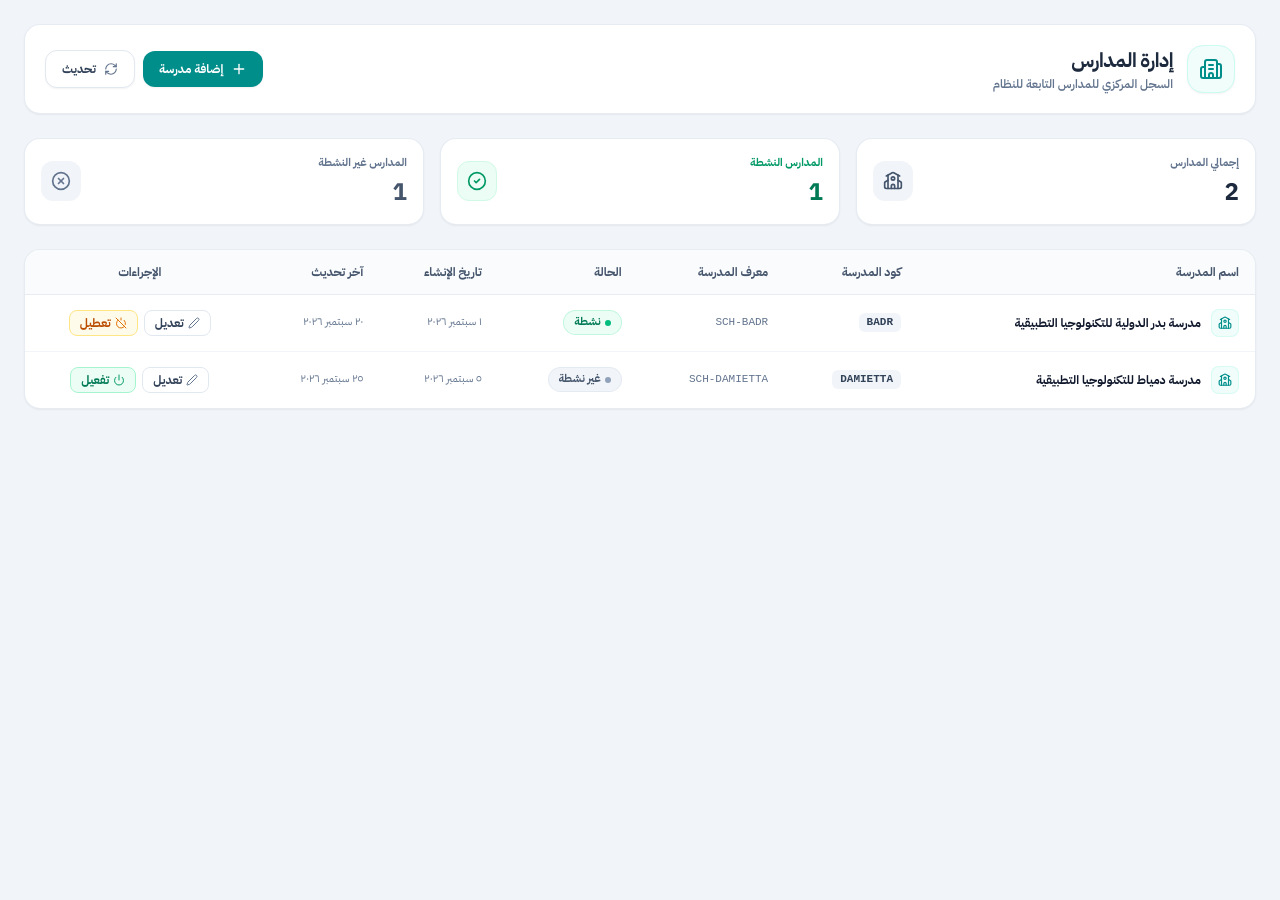
it: PHASE 3C-A14.2.2 — SCHOOL CREATE / EDIT / STATUS UI › 2. Create School Workflow › Opens create modal when clicking "إضافة مدرسة"
Click the button "إضافة مدرسة".
click(203, 69)  # box [143, 51, 263, 87]
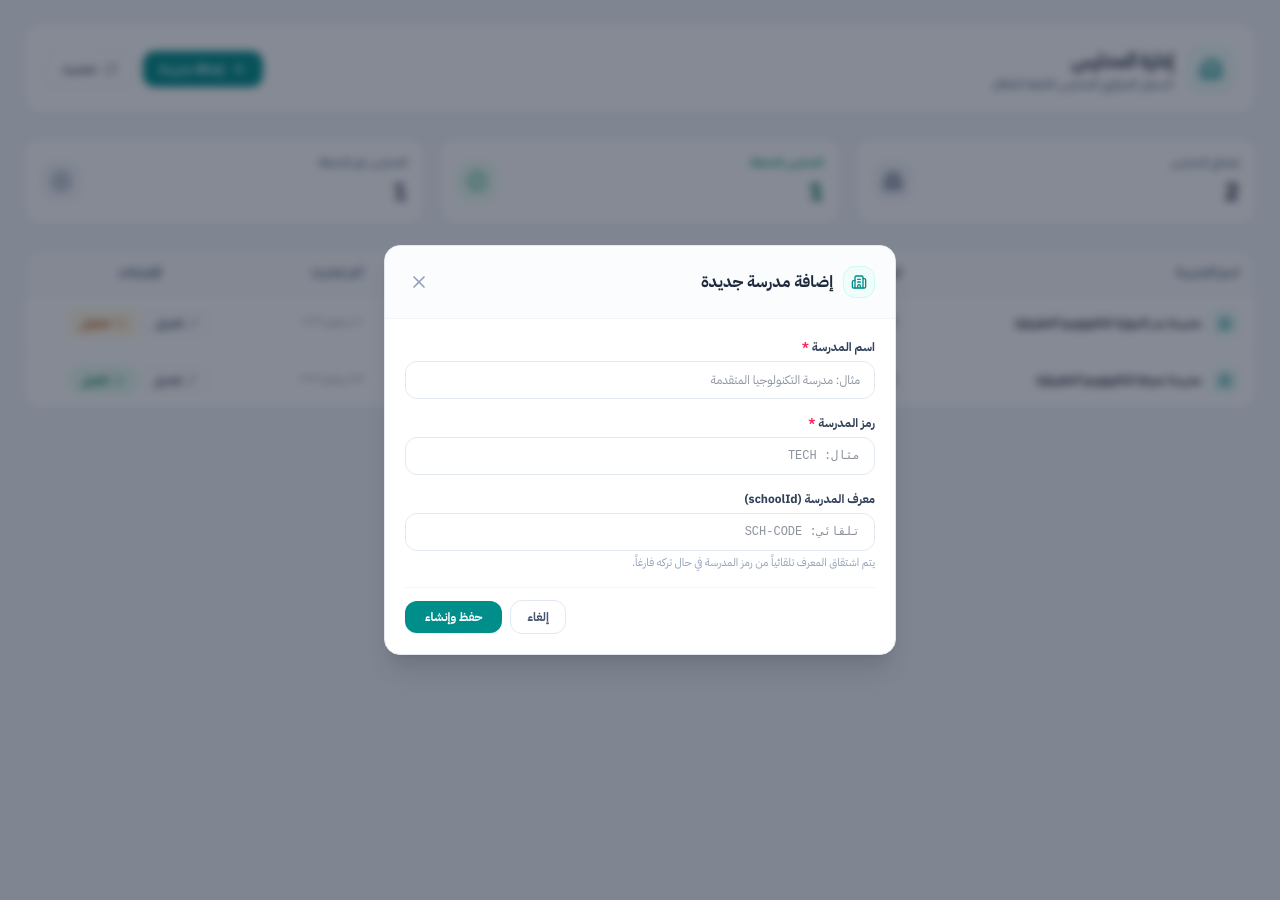
Result: the text "إضافة مدرسة جديدة" is shown at [701, 270, 833, 294]
Result: the text "رمز المدرسة" is shown at [816, 414, 875, 432]
Result: the text "حفظ وإنشاء" is shown at [425, 609, 482, 625]
